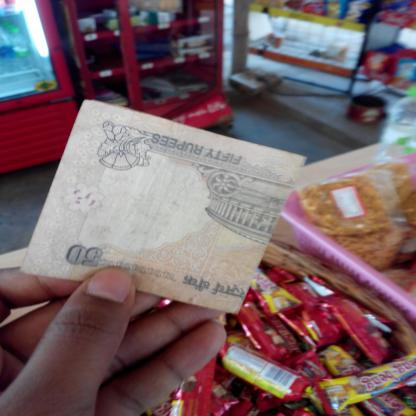Old50Back: (19, 99, 305, 315)
